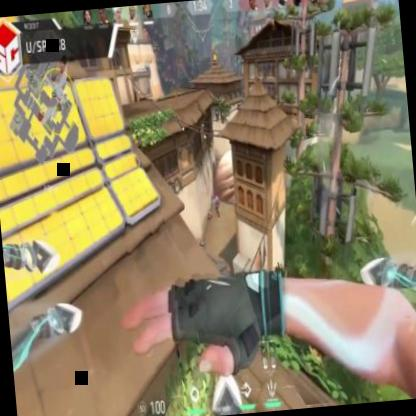enemy: (212, 194, 221, 219)
enemy_head: (214, 194, 218, 201)
